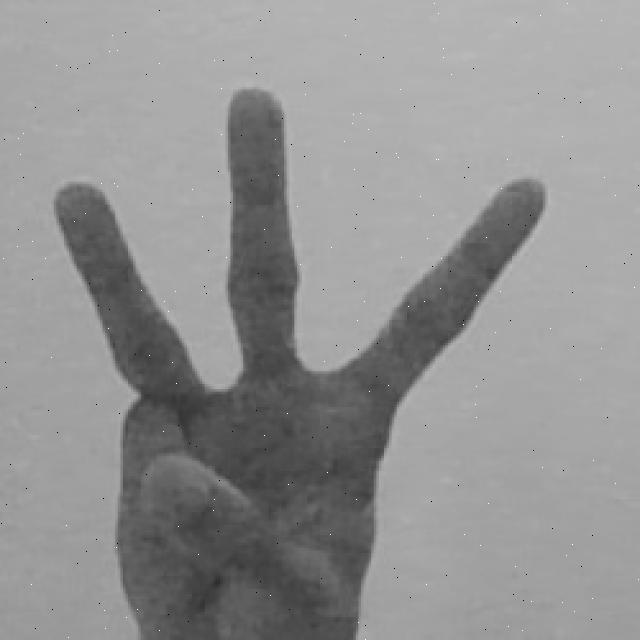W: (53, 79, 556, 640)
